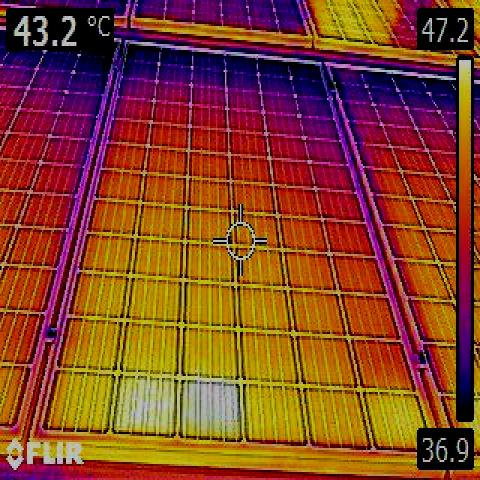fault: (185, 381, 239, 438), (123, 379, 180, 431)
